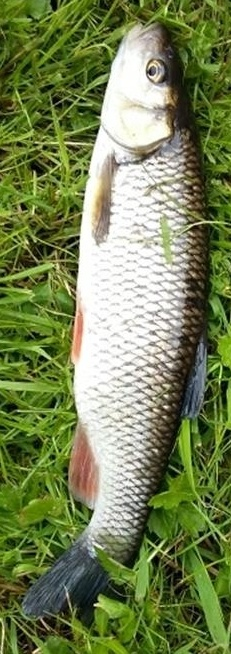Leuciscus cephalus: (20, 20, 211, 634)
